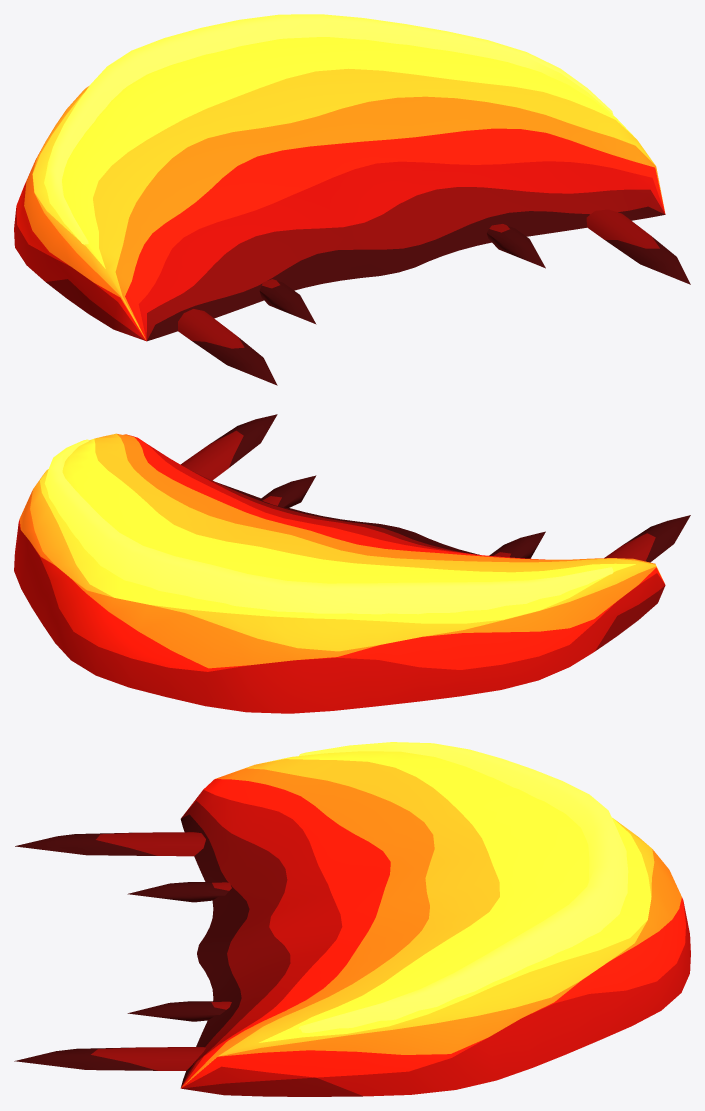
File: shot_charge_b78.glb
3 views of the same model, one above another, from view 1: azimuth 30°, elevation 25°; view 2: azimuth 150°, elevation 25°; view 3: azimuth 270°, elevation 25° (orthographic). The views are drawn at different scales.
Parts seen in each view (by area): view 1: shot_charge_b78_wave, shot_charge_b78_core, shot_charge_b78_trail1, shot_charge_b78_trail0, shot_charge_b78_trail3, shot_charge_b78_trail2; view 2: shot_charge_b78_wave, shot_charge_b78_core, shot_charge_b78_trail1, shot_charge_b78_trail0, shot_charge_b78_trail3, shot_charge_b78_trail2; view 3: shot_charge_b78_wave, shot_charge_b78_core, shot_charge_b78_trail0, shot_charge_b78_trail1, shot_charge_b78_trail2, shot_charge_b78_trail3.
Boxes of the visible parts, x1=… form: shot_charge_b78_wave: x1=14, y1=37, x2=665, y2=341; shot_charge_b78_core: x1=44, y1=14, x2=613, y2=244; shot_charge_b78_trail1: x1=586, y1=209, x2=690, y2=284; shot_charge_b78_trail0: x1=178, y1=309, x2=277, y2=385; shot_charge_b78_trail3: x1=487, y1=224, x2=545, y2=268; shot_charge_b78_trail2: x1=259, y1=279, x2=316, y2=324; shot_charge_b78_wave: x1=14, y1=433, x2=665, y2=713; shot_charge_b78_core: x1=44, y1=439, x2=613, y2=614; shot_charge_b78_trail1: x1=180, y1=414, x2=277, y2=480; shot_charge_b78_trail0: x1=604, y1=515, x2=690, y2=562; shot_charge_b78_trail3: x1=260, y1=475, x2=316, y2=508; shot_charge_b78_trail2: x1=489, y1=531, x2=545, y2=558; shot_charge_b78_wave: x1=180, y1=751, x2=690, y2=1096; shot_charge_b78_core: x1=298, y1=742, x2=628, y2=1032; shot_charge_b78_trail0: x1=15, y1=832, x2=205, y2=856; shot_charge_b78_trail1: x1=14, y1=1047, x2=205, y2=1070; shot_charge_b78_trail2: x1=127, y1=882, x2=231, y2=902; shot_charge_b78_trail3: x1=127, y1=1001, x2=231, y2=1021.
Size of the model in its own units: 12 by 2.08 by 11.99.
